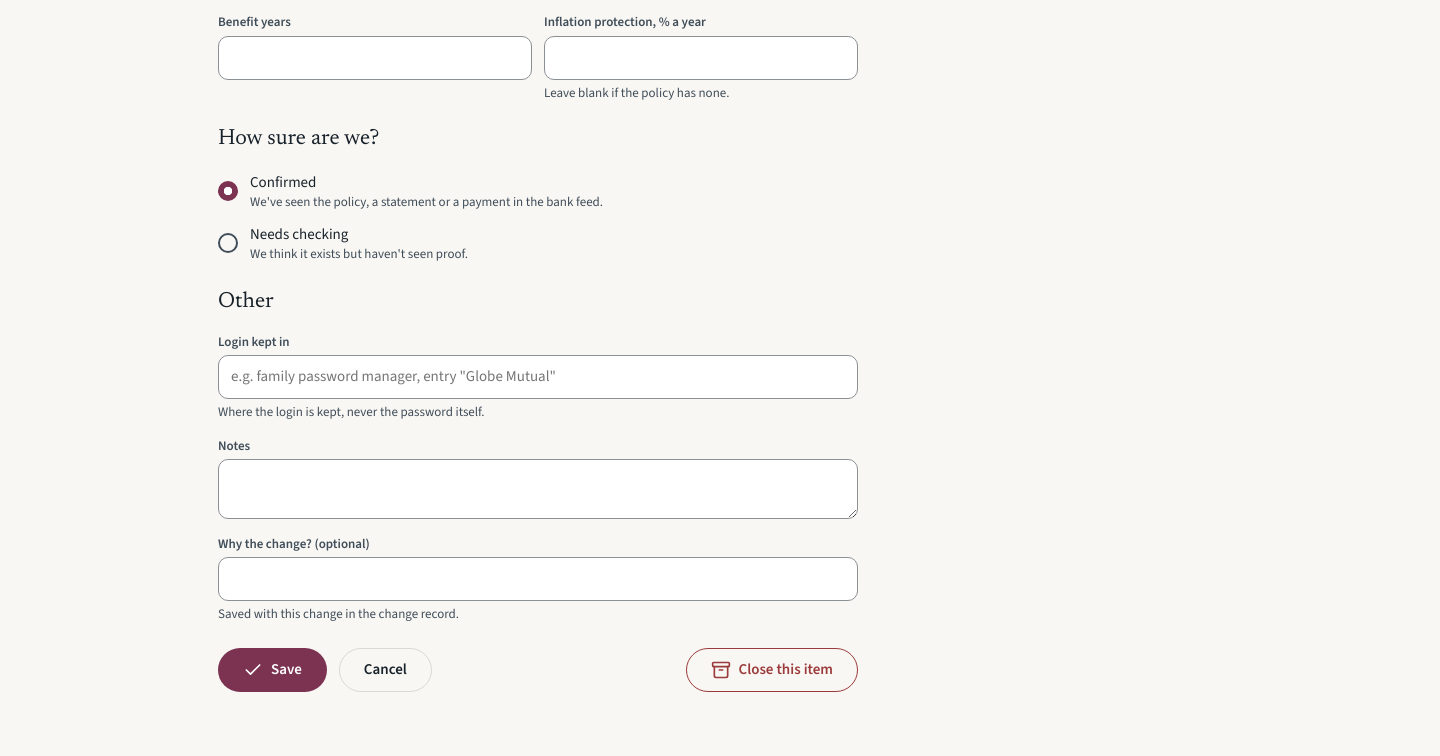
Test case: Item form › shows a failed close inside the close box, where the person is looking
(page scrolled)
Click the button "Close this item".
click(772, 670)  # box [686,648,858,692]
(page scrolled)
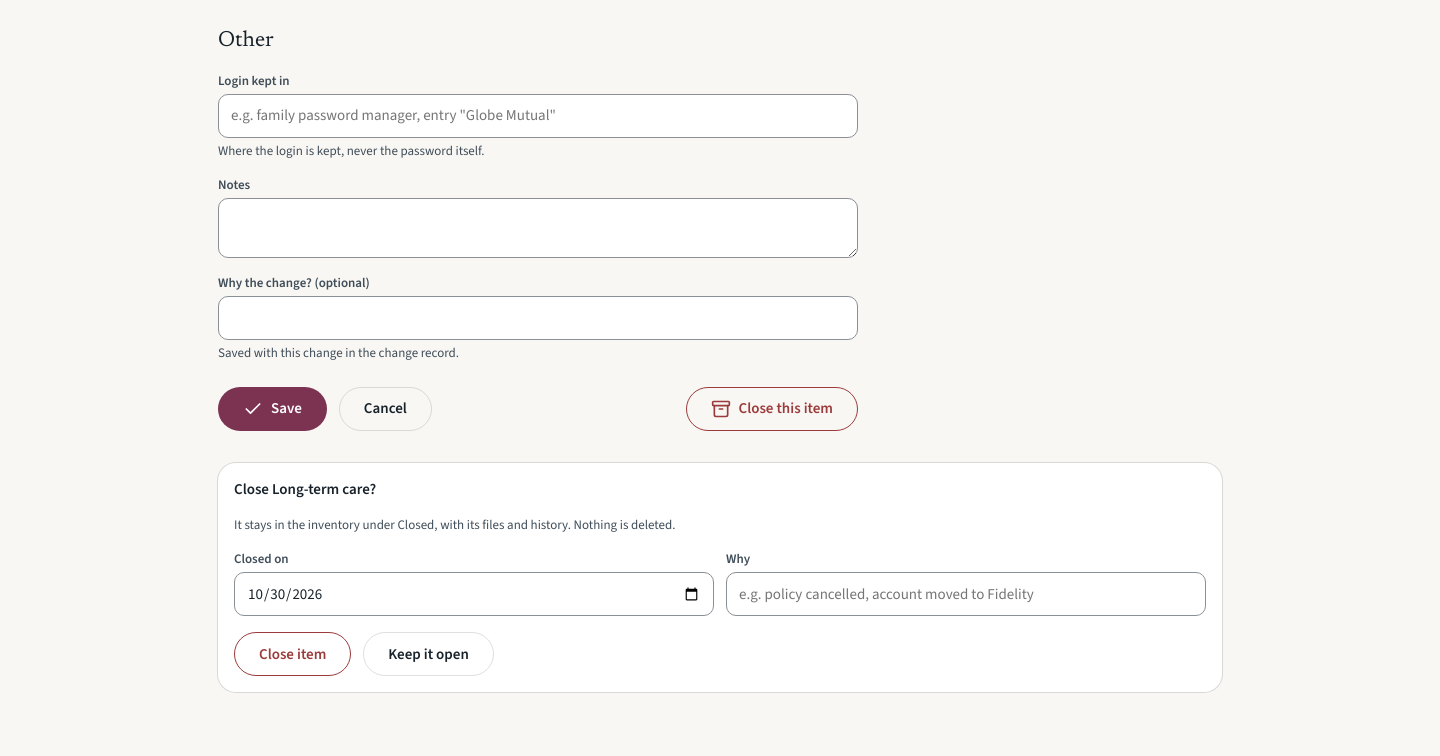
Click the button "Close item".
click(293, 654)  # box [234,632,351,676]
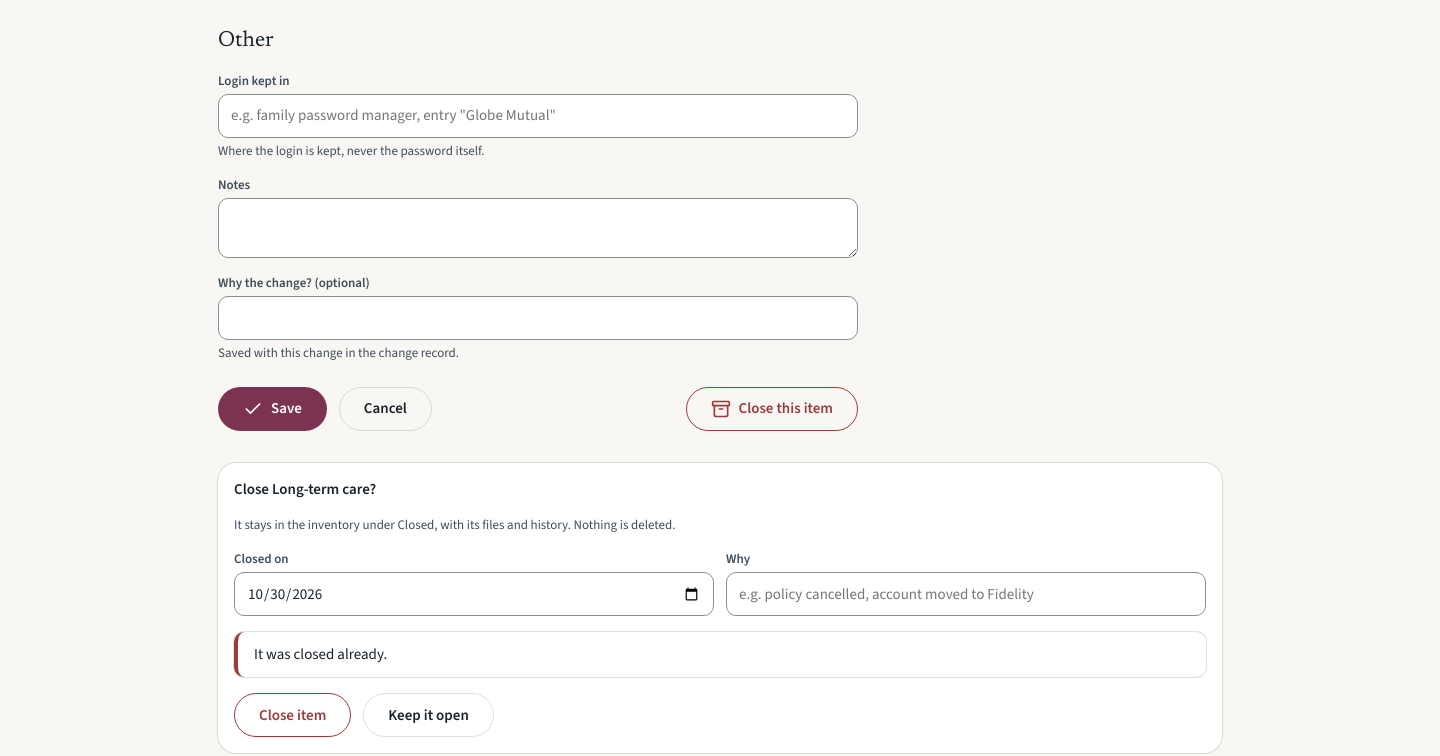
Result: the text "It was closed already." is shown at [234,632,1206,677]
